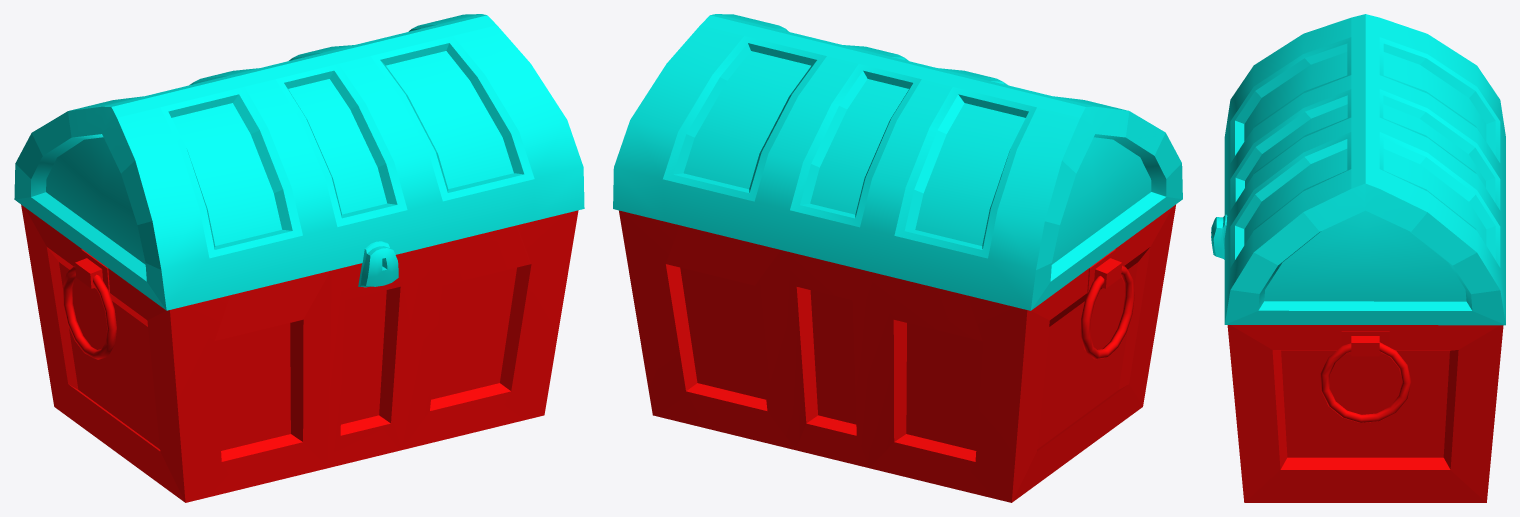
File: TreasureChest.FBX
3 views of the same model, side by side, from view 1: azimuth 30°, elevation 25°; view 2: azimuth 150°, elevation 25°; view 3: azimuth 270°, elevation 25° (orthographic). The views are drawn at different scales.
Visible parts, largest first — view 1: BovenDeksel, OnderDeksel; view 2: BovenDeksel, OnderDeksel; view 3: BovenDeksel, OnderDeksel.
Boxes of the visible parts, x1=… form: BovenDeksel: x1=14, y1=14, x2=584, y2=310; OnderDeksel: x1=21, y1=204, x2=578, y2=502; BovenDeksel: x1=613, y1=14, x2=1182, y2=310; OnderDeksel: x1=619, y1=204, x2=1175, y2=502; BovenDeksel: x1=1211, y1=14, x2=1505, y2=325; OnderDeksel: x1=1227, y1=325, x2=1503, y2=502.
Bounding box in the file's own units: 75.11 × 57.99 × 47.94.
